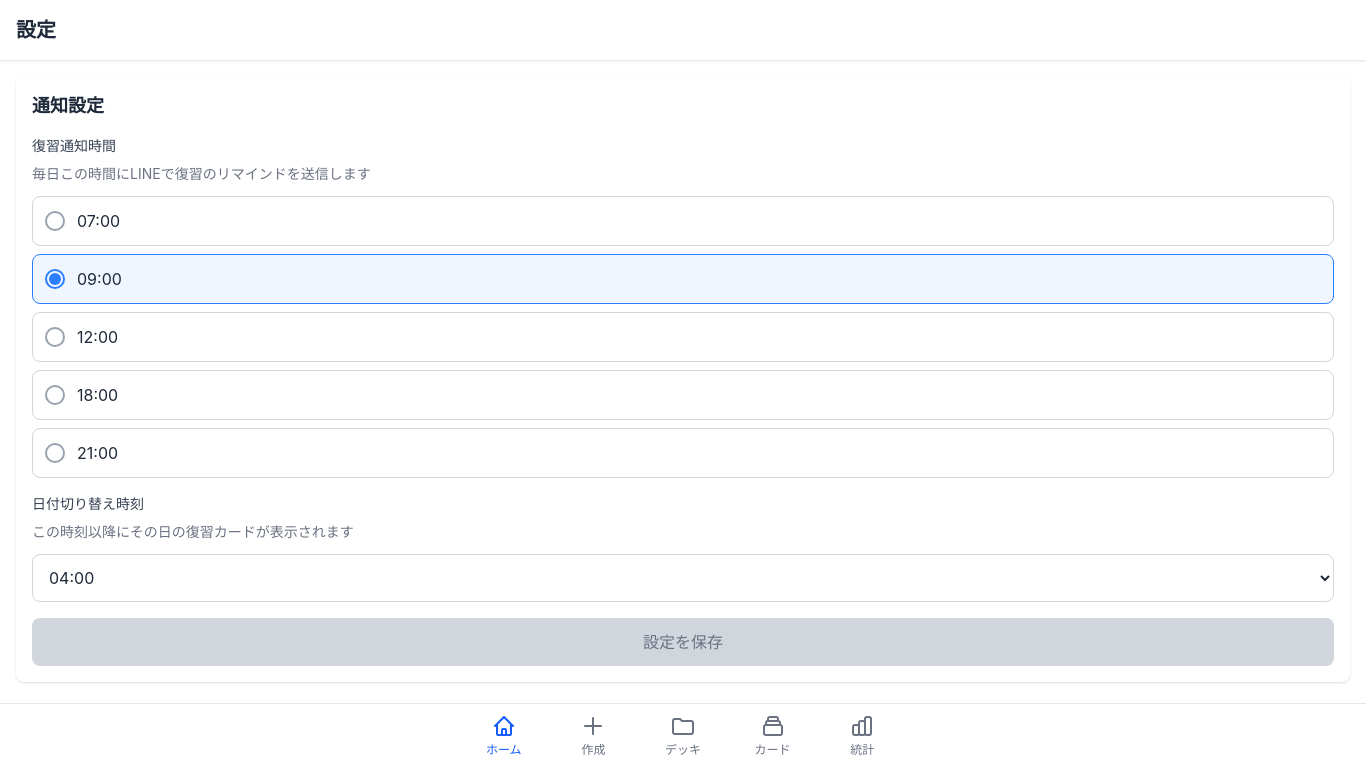
Test: SettingsPage › テストケース6: 保存エラー時の表示 › 保存失敗時にエラーメッセージが表示される
This screenshot has width=1366, height=768.
Expected: the heading "設定" is shown, x1=16 y1=18 x2=56 y2=42
Step 1. Click the radio button with test id "time-option-18:00" → (98, 395), box x1=32 y1=370 x2=1334 y2=420
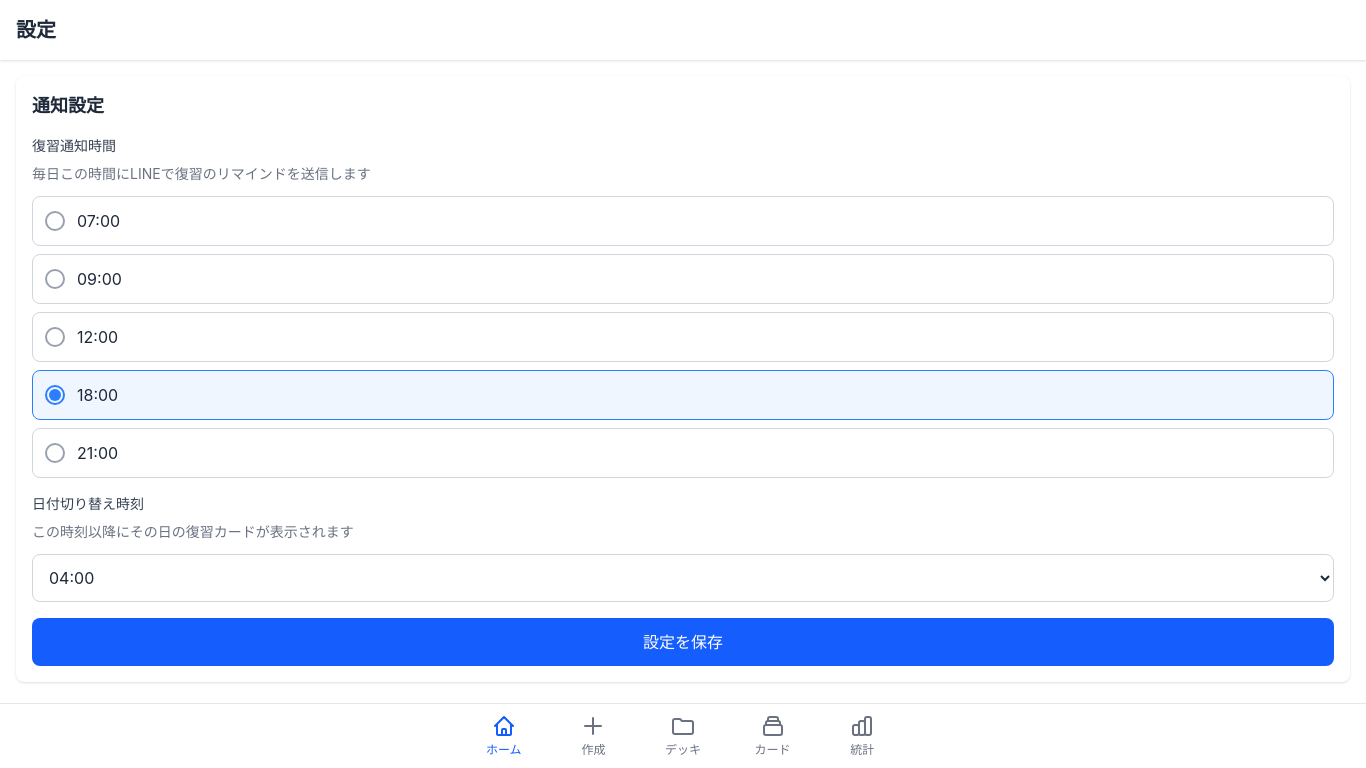
Step 2. Click the button with test id "save-button" → (683, 642), box x1=32 y1=618 x2=1334 y2=666
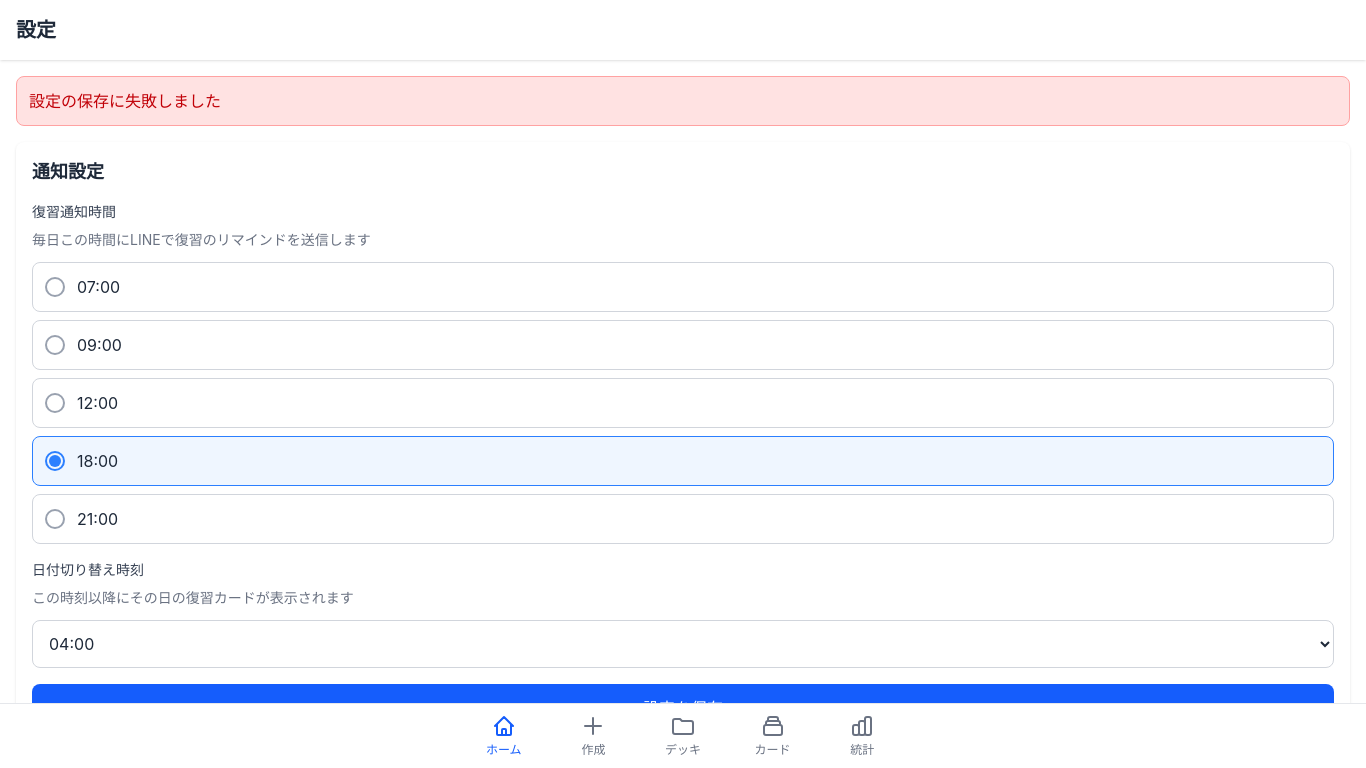
Expected: the text with test id "error-message" reads "設定の保存に失敗しました", x1=29 y1=91 x2=221 y2=111
